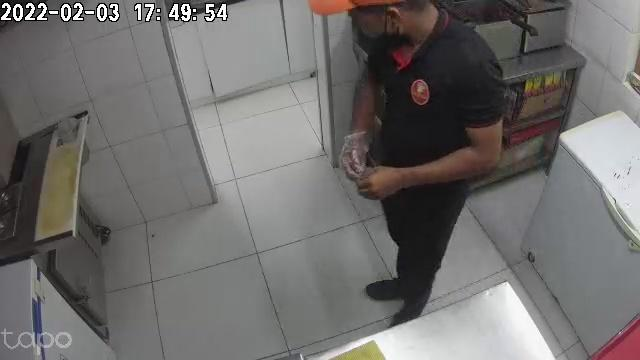gloves: (341, 120, 371, 167)
no_gloves: (361, 167, 410, 200)
